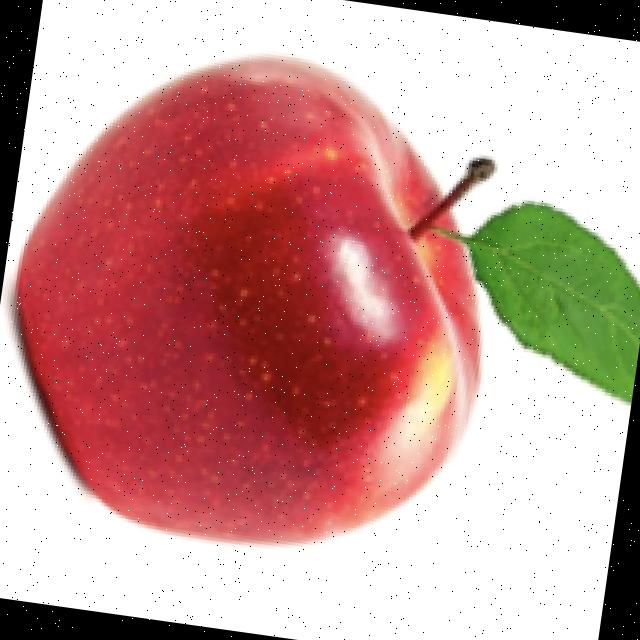apple: (1, 48, 640, 550)
